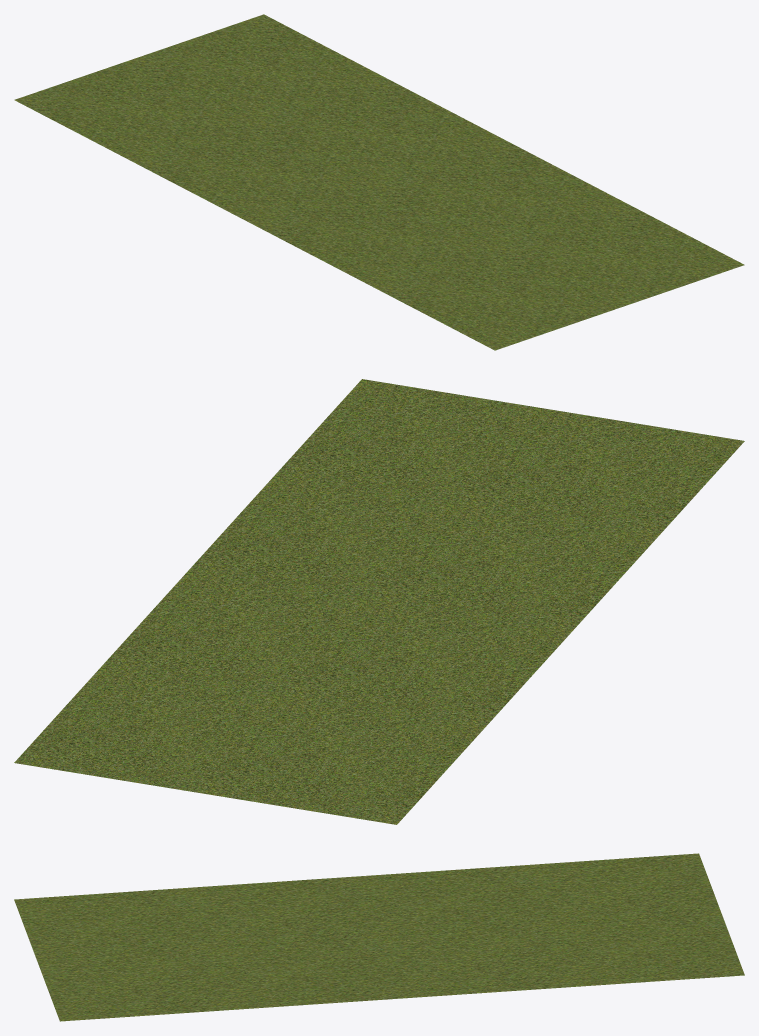
Rendered from pisoCesped2.glb.
The picture shows the model from 3 angles, top to bottom: view 1: azimuth 30°, elevation 25°; view 2: azimuth 150°, elevation 25°; view 3: azimuth 270°, elevation 25°; orthographic projection. The views are drawn at different scales.
Parts seen in each view (by area): view 1: piso cesped cerca del lab; view 2: piso cesped cerca del lab; view 3: piso cesped cerca del lab.
Part boxes in pixels (bbox=[...]): piso cesped cerca del lab: bbox=[14, 14, 744, 350]; piso cesped cerca del lab: bbox=[14, 379, 744, 824]; piso cesped cerca del lab: bbox=[14, 853, 744, 1021].
Bounding box in the file's own units: 79.48 × 0 × 146.
1 material, 1 textured.
